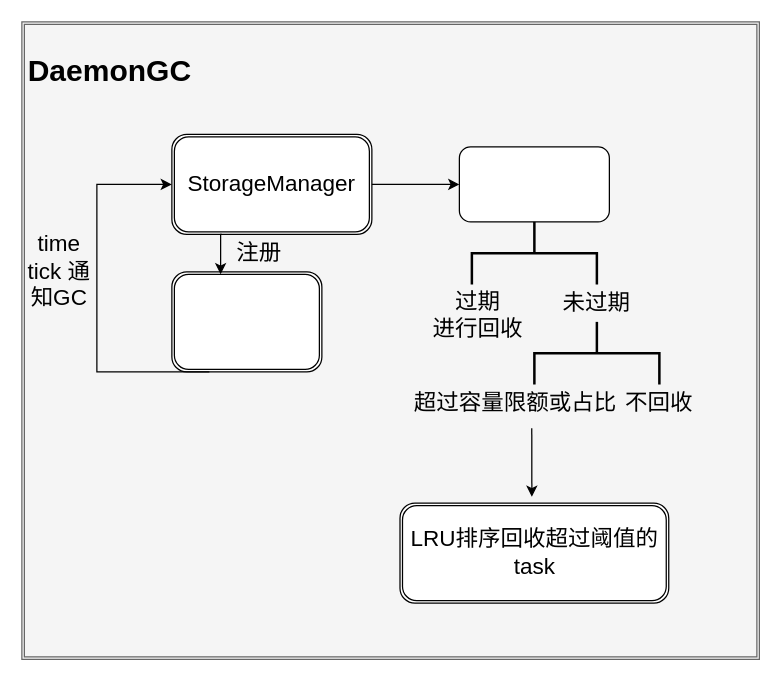
The diagram is 781 pixels wide and 681 high, and some of its shapes have lost their labels. The shapes that lost their labels are listed below. From the top down, each one's box as (x1, y1, x2, y2) in pixels, then its label:
(458, 146, 609, 222): task
(171, 271, 322, 372): 观察者模式
